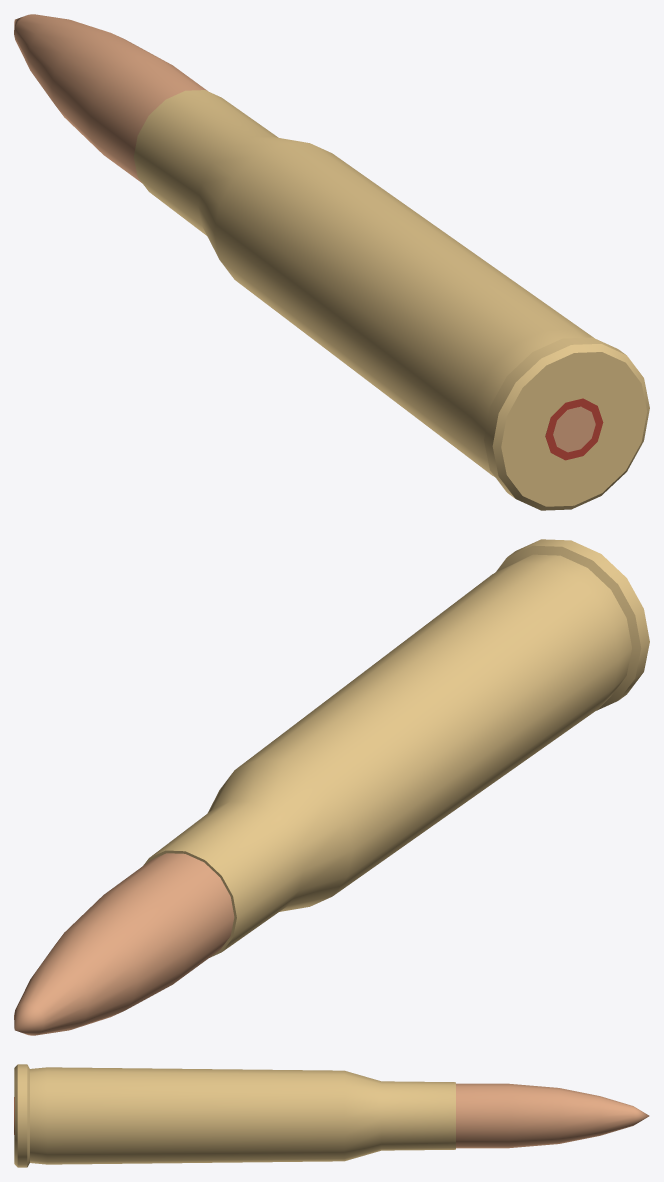
File: round_762r.glb
3 renders of one model, top to bottom at view 1: azimuth 30°, elevation 25°; view 2: azimuth 150°, elevation 25°; view 3: azimuth 270°, elevation 25°, orthographic. The views are drawn at different scales.
Parts seen in each view (by area): view 1: body; view 2: body; view 3: body.
Boxes of the visible parts, bbox=[...] form: body: bbox=[14, 14, 649, 510]; body: bbox=[14, 539, 649, 1035]; body: bbox=[14, 1064, 649, 1167].
Size of the model in its own units: 0.0125 by 0.0125 by 0.077.
